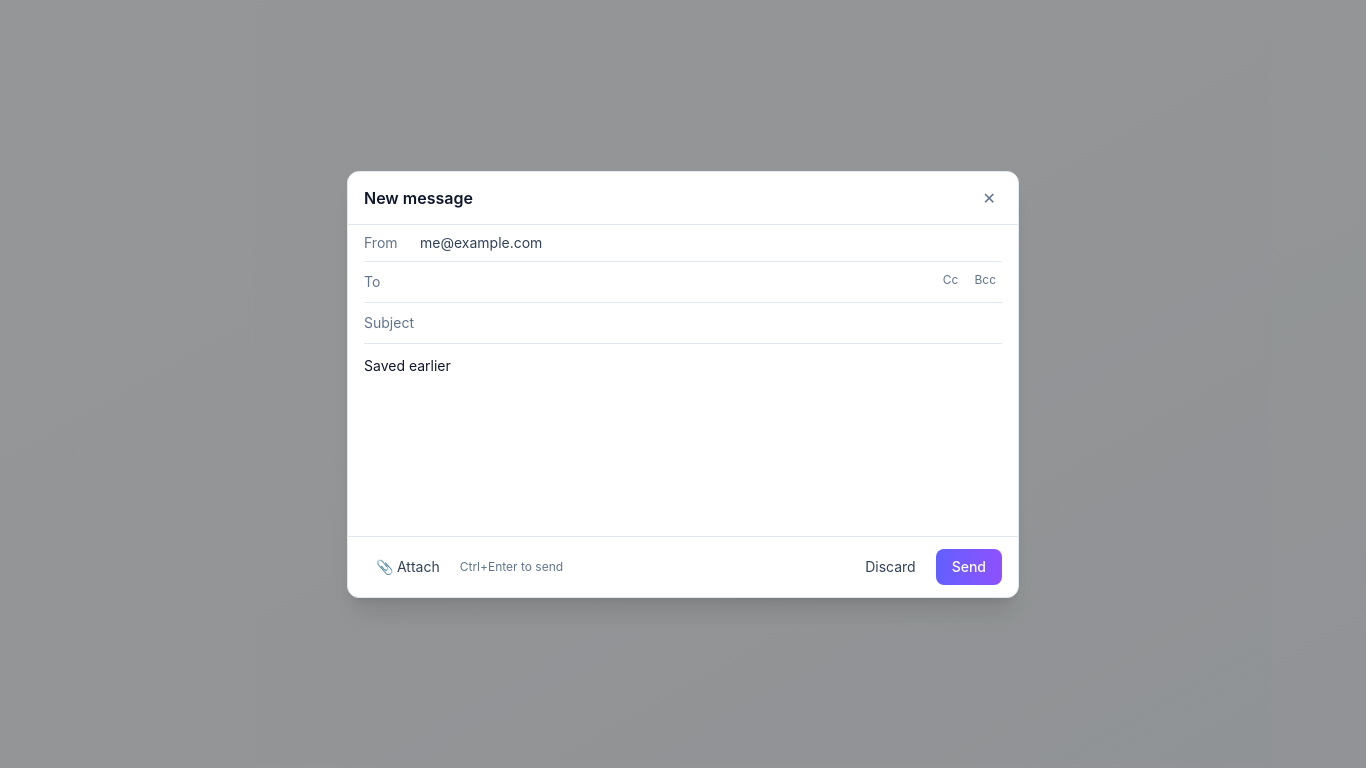
drafts › keeps the draft when deleting it fails
Click the button "Discard" at (890, 566), box [853, 548, 928, 584]
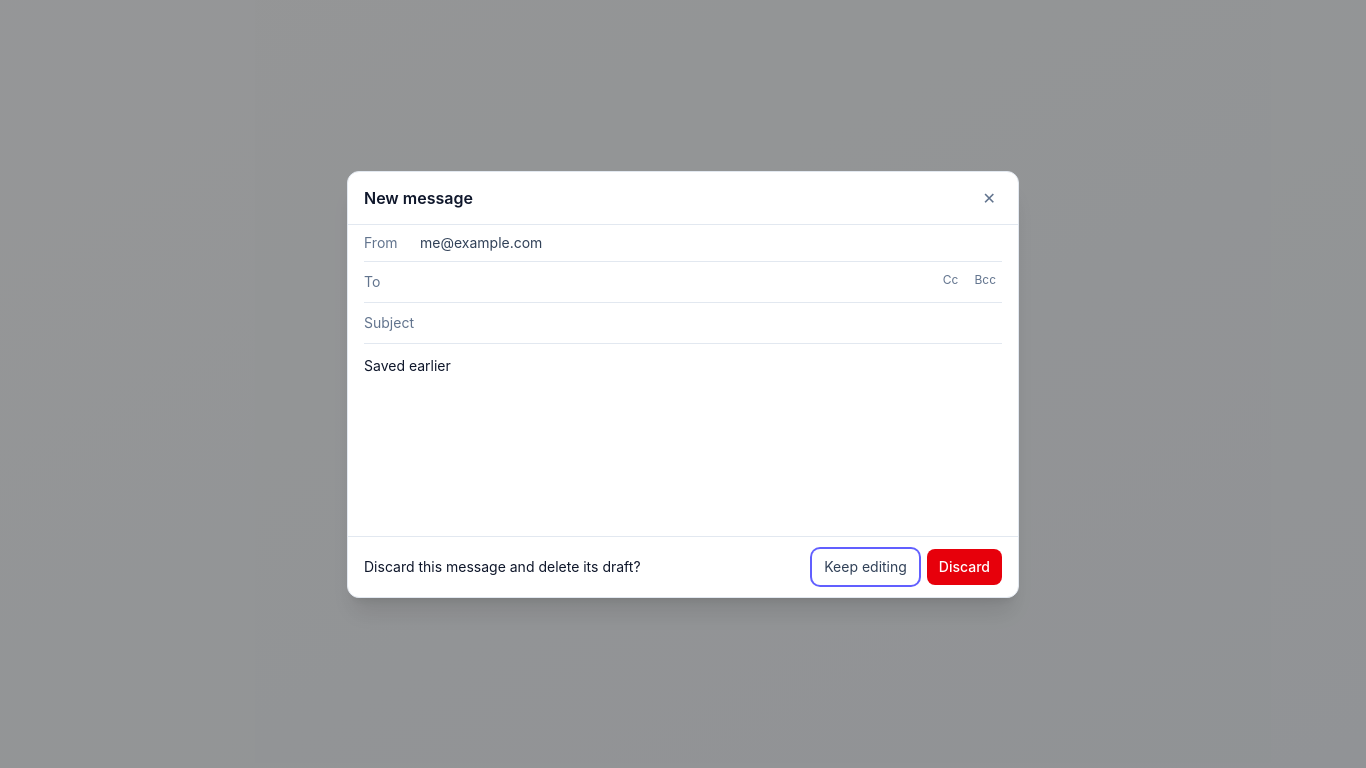
Click the button "Discard" at (964, 566), box [927, 548, 1002, 584]
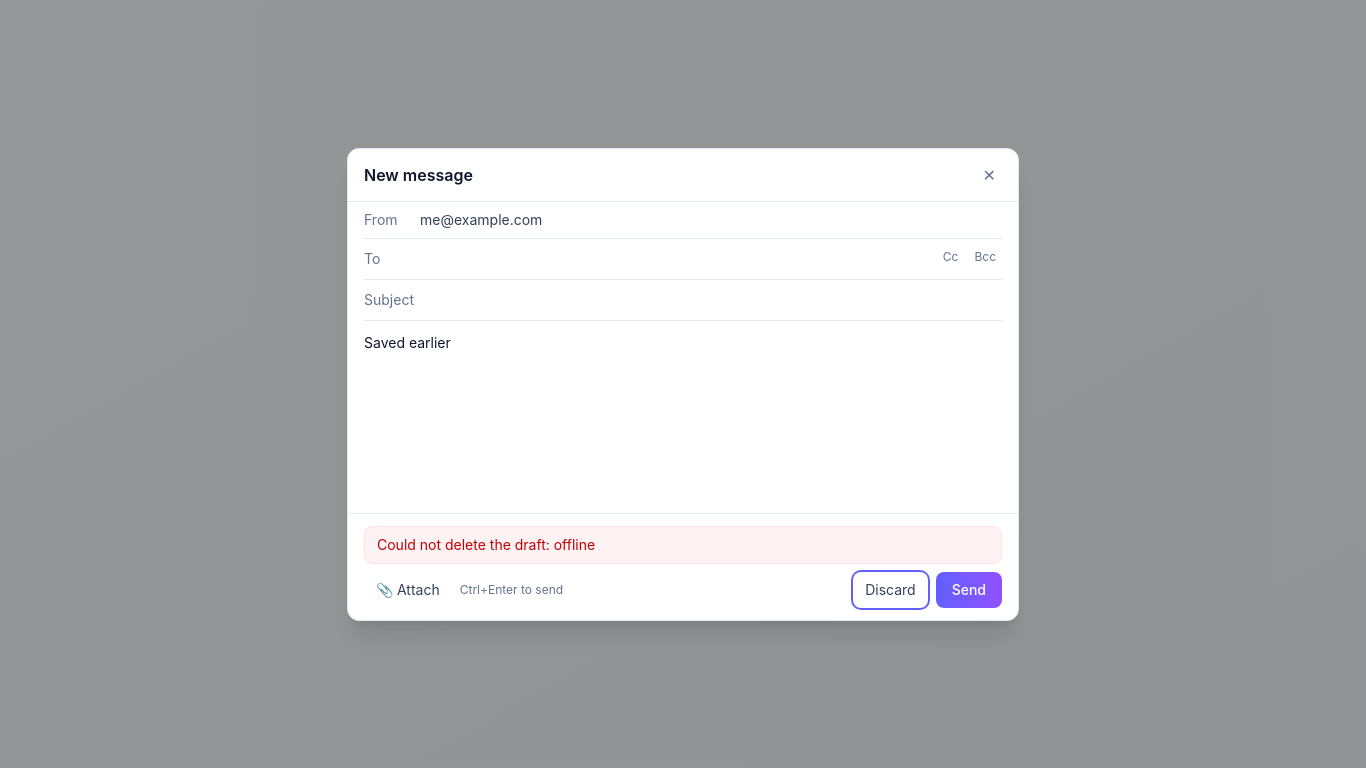
Now the message reads "Could not delete the draft: offline", box [377, 536, 595, 552]
